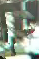Parking: (4, 5, 36, 58)
